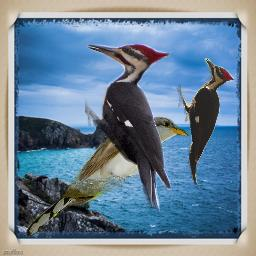Cuckoo: (23, 115, 193, 237)
Woodpecker: (85, 44, 173, 212), (176, 58, 234, 185)
